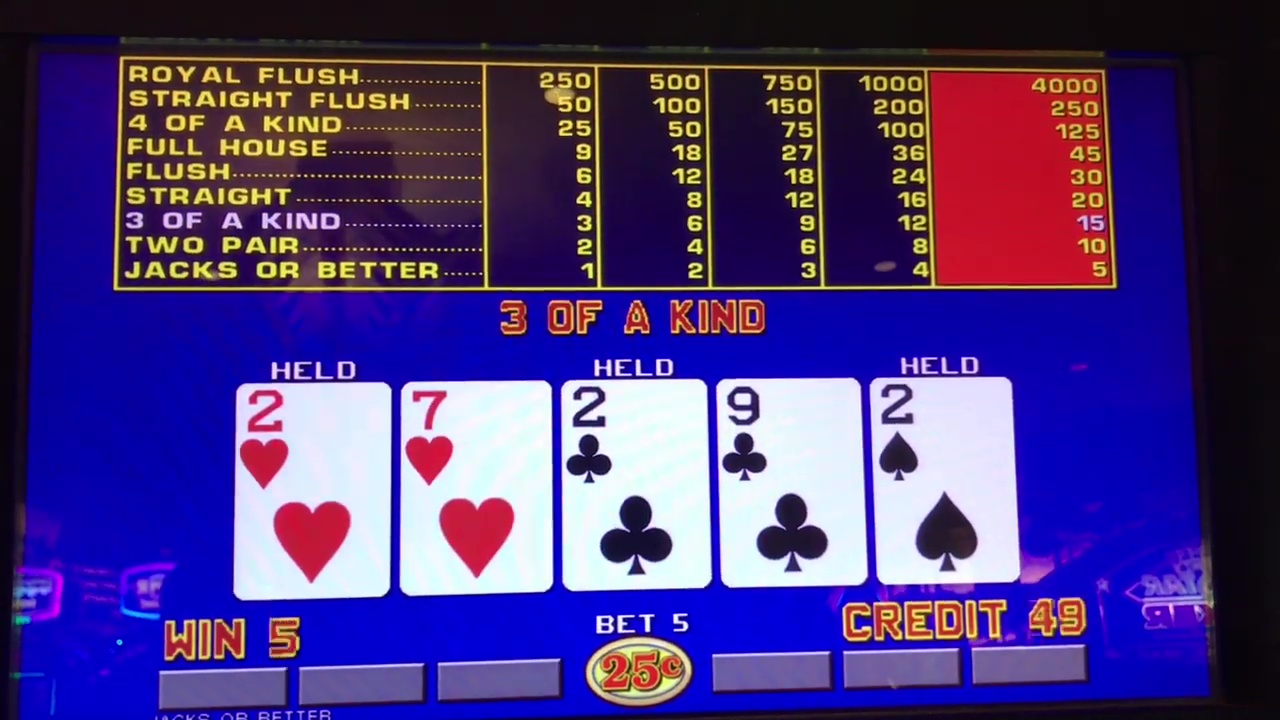C2: (564, 381, 702, 492)
C9: (723, 379, 866, 491)
H2: (239, 387, 388, 501)
H7: (410, 382, 548, 495)
S2: (879, 377, 1008, 489)
